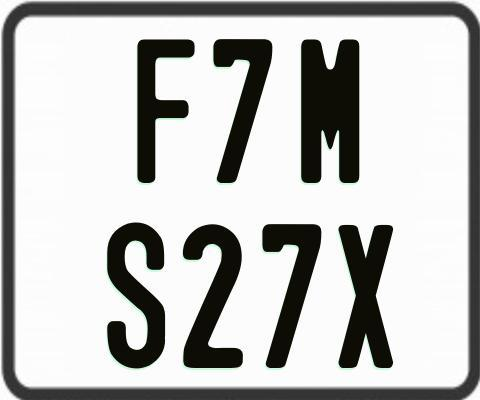2: (182, 223, 247, 367)
7: (213, 36, 278, 184), (261, 222, 321, 367)
F: (135, 39, 196, 187)
M: (298, 37, 357, 183)
S: (106, 221, 169, 371)
X: (338, 225, 396, 372)
